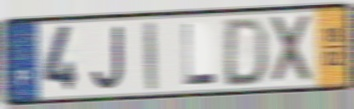4: (41, 22, 84, 98)
D: (221, 15, 271, 88)
I: (142, 19, 159, 94)
J: (90, 23, 126, 92)
L: (181, 21, 219, 88)
X: (269, 12, 315, 87)
